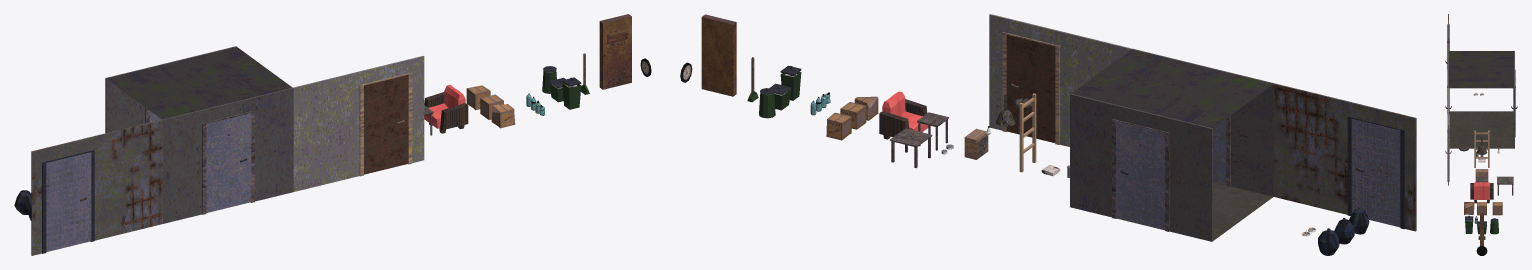
The model's file is HallwayEnvirenment.fbx.
3 views of the same model, side by side, from view 1: azimuth 30°, elevation 25°; view 2: azimuth 150°, elevation 25°; view 3: azimuth 270°, elevation 25° (orthographic). The views are drawn at different scales.
Parts seen in each view (by area): view 1: WallDoor1, WallDoor2, WallDoor, Ceiling, Door.002, Door.001, Door.003, SwitchBox, WallForDoor, SingleSofa, CarboardBox2, TrashCan.001 (+1 smaller); view 2: WallDoor1, WallForDoor, Ceiling, WallDoor2, Door, Door.002, Door.003, Wall, SwitchBox, Floor, SingleSofa, WallDoor (+8 smaller); view 3: Ceiling, Floor, SingleSofa, LittleStairs, WallDoor2, WallForDoor, LittleTable.001, SwitchBox, CarboardBox1, CarboardBox2, TrashCanCilender, TrashCan.001 (+7 smaller).
Part boxes in pixels (left/top/right/bottom): WallDoor1: left=31, top=119, right=162, bottom=255; WallDoor2: left=293, top=56, right=424, bottom=191; WallDoor: left=162, top=87, right=293, bottom=223; Ceiling: left=106, top=47, right=292, bottom=119; Door.002: left=46, top=152, right=91, bottom=251; Door.001: left=206, top=113, right=251, bottom=212; Door.003: left=364, top=74, right=408, bottom=174; SwitchBox: left=599, top=14, right=631, bottom=89; WallForDoor: left=105, top=46, right=236, bottom=133; SingleSofa: left=424, top=84, right=468, bottom=133; CarboardBox2: left=491, top=104, right=515, bottom=128; TrashCan.001: left=562, top=83, right=581, bottom=109; WallDoor1: left=1273, top=83, right=1416, bottom=231; WallForDoor: left=1070, top=94, right=1212, bottom=241; Ceiling: left=1071, top=49, right=1273, bottom=128; WallDoor2: left=989, top=14, right=1131, bottom=146; Door: left=1116, top=121, right=1164, bottom=229; Door.002: left=1351, top=119, right=1400, bottom=227; Door.003: left=1006, top=34, right=1055, bottom=142; Wall: left=1213, top=84, right=1273, bottom=196; SwitchBox: left=701, top=14, right=736, bottom=96; Floor: left=1117, top=182, right=1272, bottom=240; SingleSofa: left=879, top=91, right=928, bottom=139; WallDoor: left=1132, top=48, right=1273, bottom=196; Ceiling: left=1449, top=51, right=1513, bottom=88; Floor: left=1449, top=111, right=1513, bottom=148; SingleSofa: left=1470, top=182, right=1493, bottom=203; LittleStairs: left=1474, top=130, right=1489, bottom=167; WallDoor2: left=1447, top=88, right=1449, bottom=185; WallForDoor: left=1513, top=51, right=1515, bottom=148; LittleTable.001: left=1497, top=176, right=1513, bottom=195; SwitchBox: left=1478, top=205, right=1483, bottom=245; CarboardBox1: left=1492, top=202, right=1502, bottom=215; CarboardBox2: left=1464, top=202, right=1474, bottom=214; TrashCanCilender: left=1490, top=221, right=1498, bottom=234; TrashCan.001: left=1465, top=220, right=1473, bottom=233.
Bounding box in the file's own units: 1757 × 277 × 293.
